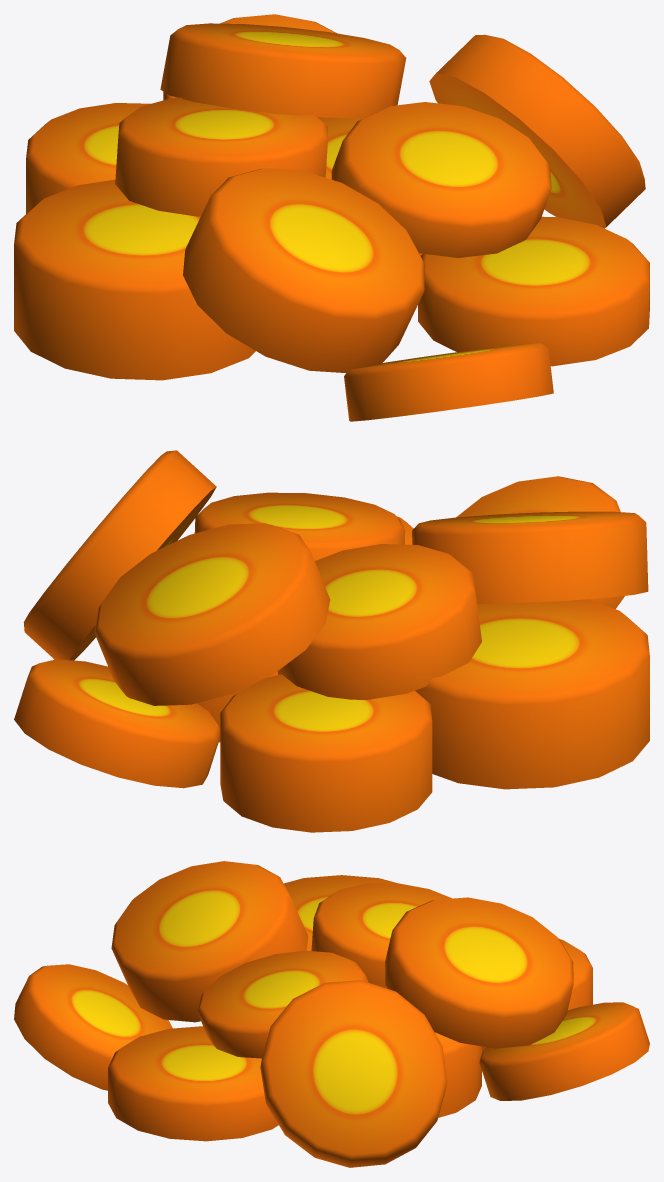
Rendered from SM_Carrot_Plate.fbx.
3 renders of one model, top to bottom at view 1: azimuth 30°, elevation 25°; view 2: azimuth 150°, elevation 25°; view 3: azimuth 270°, elevation 25°, orthographic. The views are drawn at different scales.
Parts seen in each view (by area): view 1: Carrot_Part.013; view 2: Carrot_Part.013; view 3: Carrot_Part.013.
Boxes of the visible parts, bbox=[...] form: Carrot_Part.013: bbox=[14, 14, 649, 421]; Carrot_Part.013: bbox=[14, 450, 649, 832]; Carrot_Part.013: bbox=[14, 861, 649, 1167].
Size of the model in its own units: 84.63 by 31.97 by 101.
